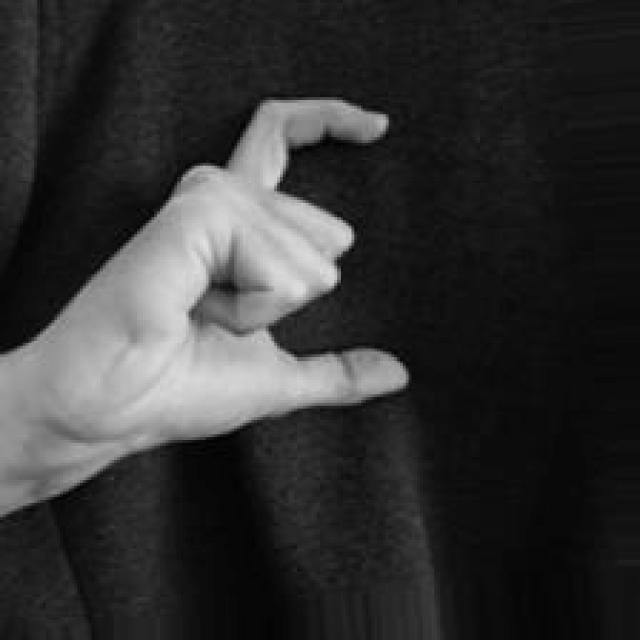C: (98, 89, 407, 474)
